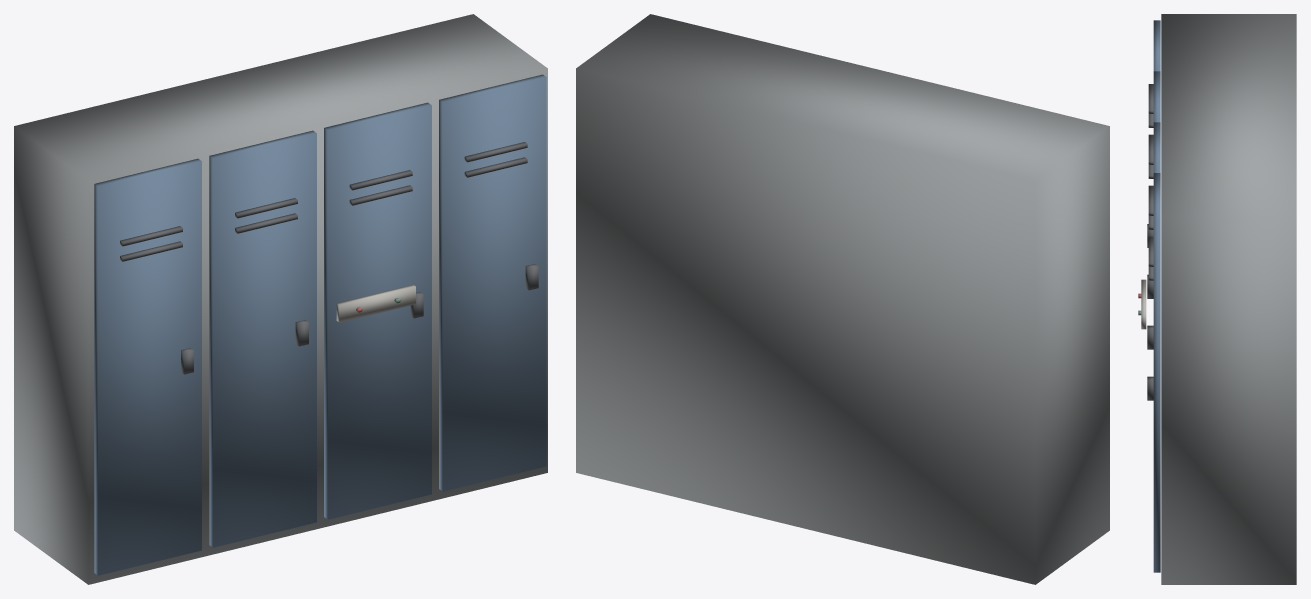
Rendered from school_locker_bank__squat.glb.
The picture shows the model from 3 angles, left to right: view 1: azimuth 30°, elevation 25°; view 2: azimuth 150°, elevation 25°; view 3: azimuth 270°, elevation 25°; orthographic projection. The views are drawn at different scales.
Parts seen in each view (by area): view 1: world; view 2: world; view 3: world.
Boxes of the visible parts, x1,y1,x2,y2 form: world: (14,14,547,584); world: (576,14,1109,584); world: (1138,14,1296,584).
Bounding box in the file's own units: 1.85 × 1.55 × 0.6059.
